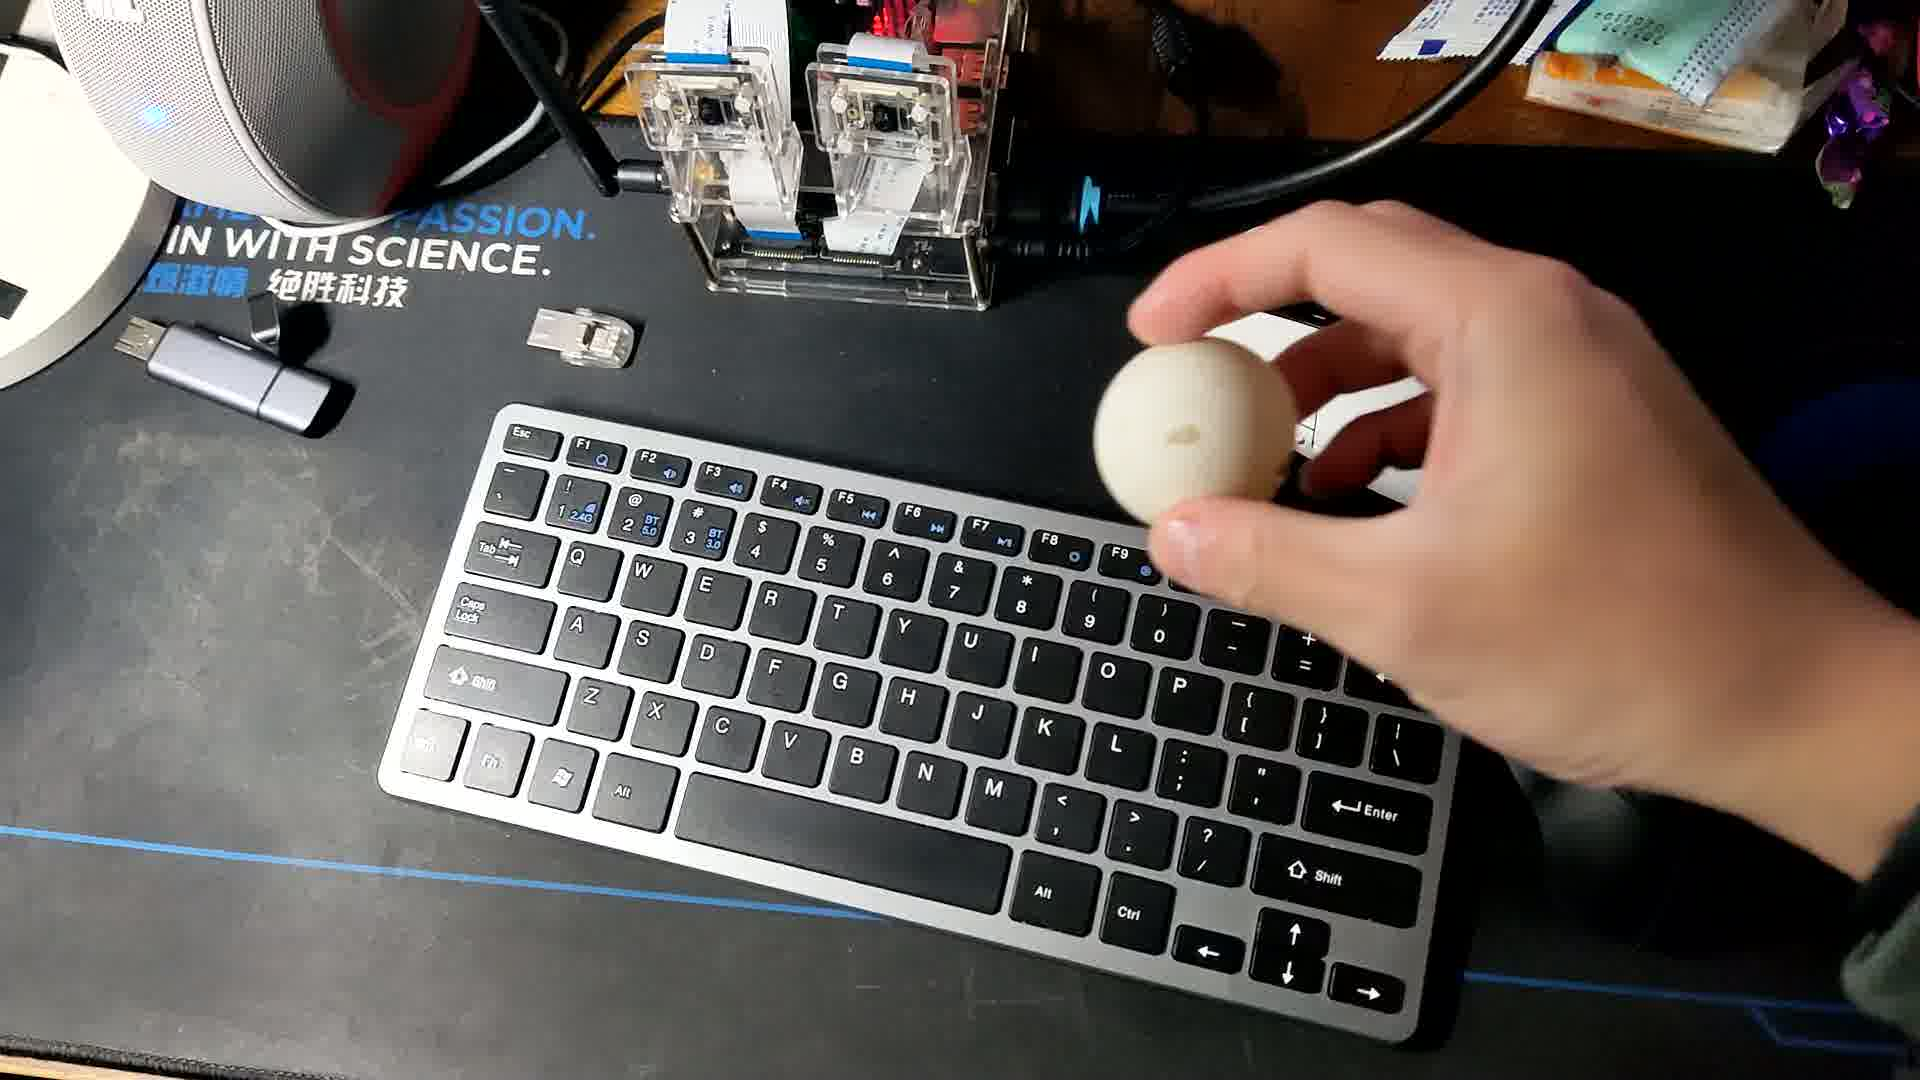Ball: (1095, 338, 1298, 541)
